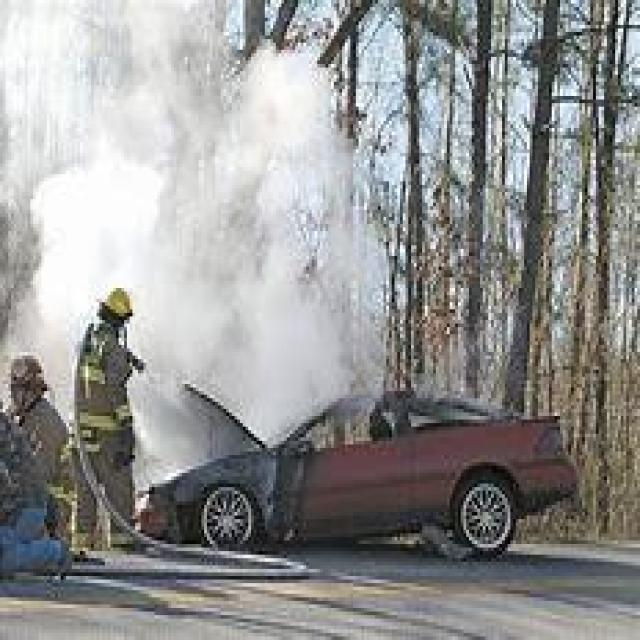Nguy hiểm: (134, 215, 592, 567)
